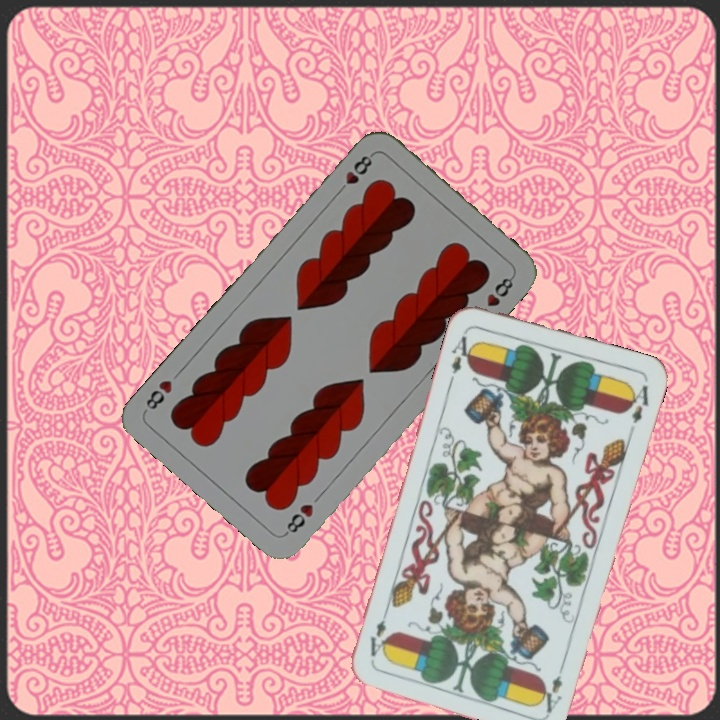EA: (535, 658, 568, 716), (447, 326, 478, 377)
H8: (333, 149, 377, 198), (281, 500, 316, 538)
